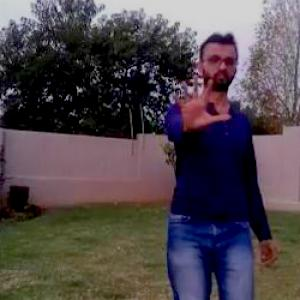follow_hand: (162, 66, 232, 132)
